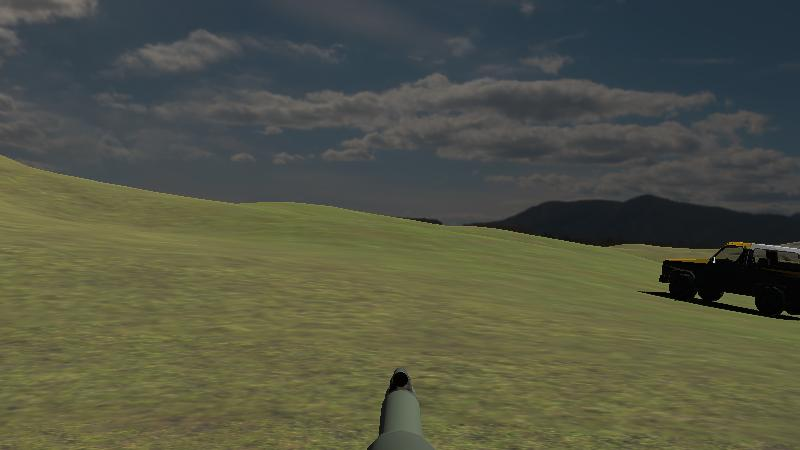car: (654, 235, 800, 327)
